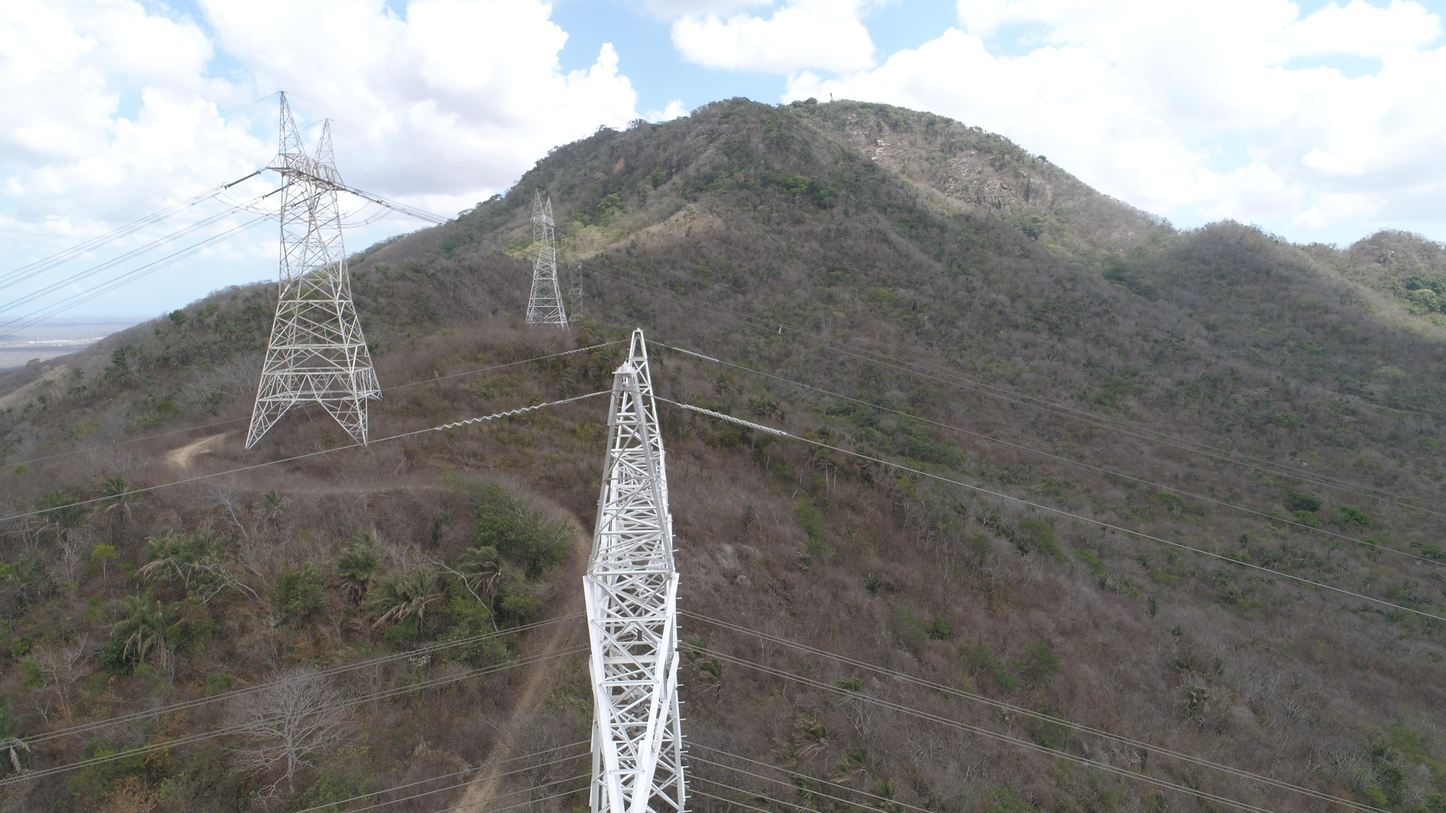power_tower: (217, 92, 386, 446), (580, 325, 693, 813), (522, 186, 571, 327)
